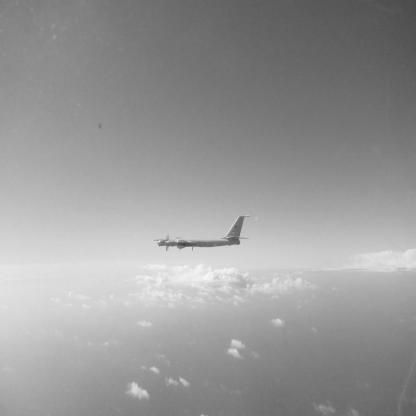Tu95: (155, 215, 252, 252)
